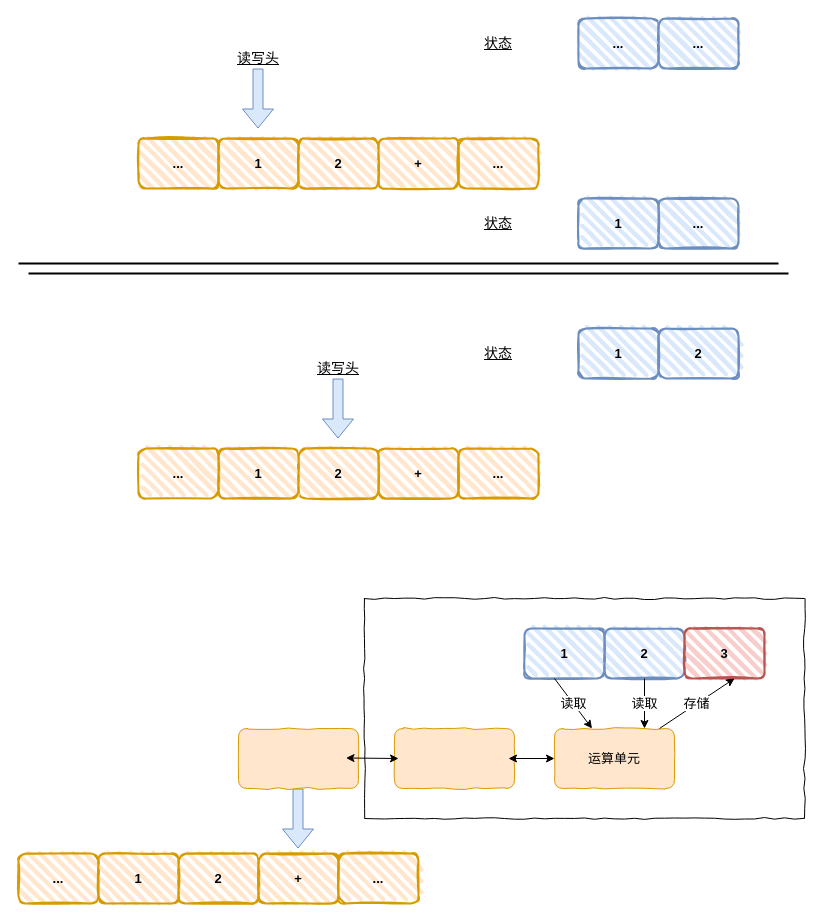
This 822x921 diagram has some shape labels left out. The shapes that lost their labels are listed below. From the top down, each one's centre as x and y in pixels, then its label:
(298,758): 读写头 +
(454,758): 控制单元
